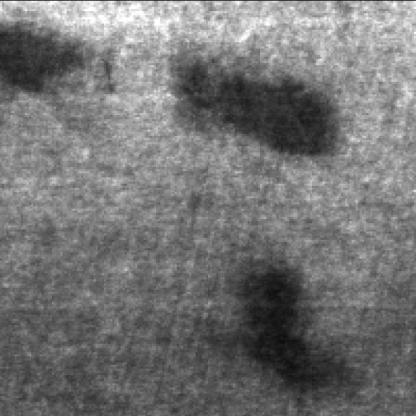patches: (176, 63, 352, 166), (250, 268, 350, 396), (4, 25, 100, 98)
